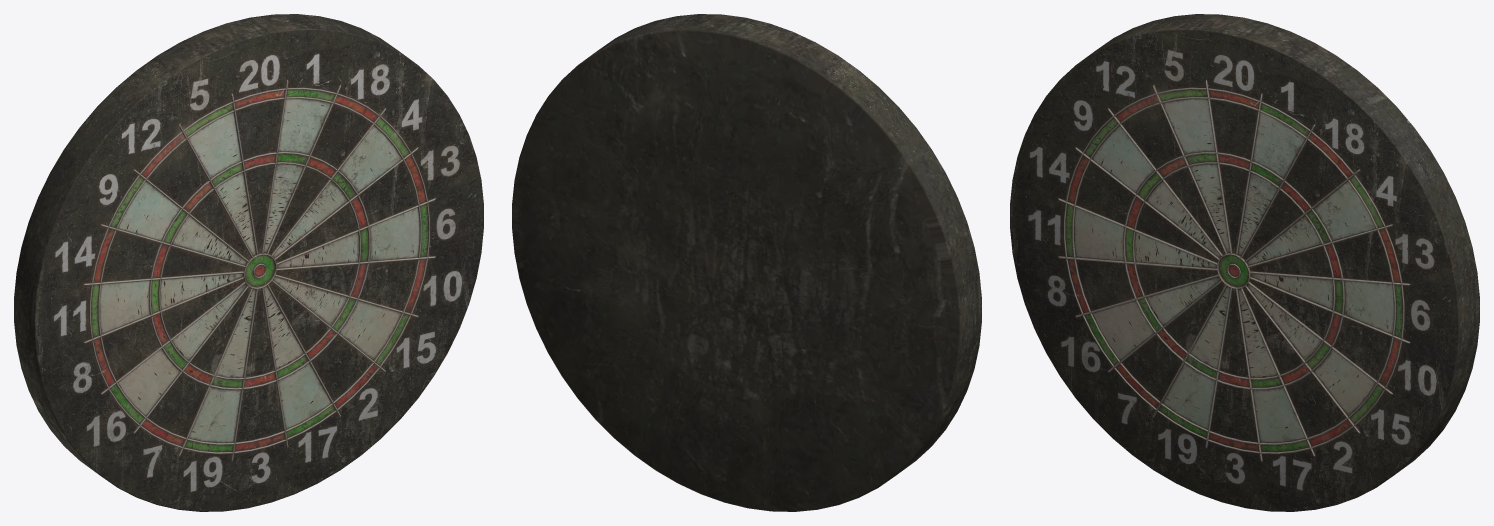
The model's file is ph-dartboard.glb.
The picture shows the model from 3 angles, left to right: view 1: azimuth 30°, elevation 25°; view 2: azimuth 150°, elevation 25°; view 3: azimuth 330°, elevation 25°; orthographic projection.
Parts seen in each view (by area): view 1: dartboard; view 2: dartboard; view 3: dartboard.
Part boxes in pixels (<box>): dartboard: <box>14,14,483,511</box>; dartboard: <box>512,14,981,511</box>; dartboard: <box>1010,14,1479,511</box>.
Size of the model in its own units: 0.4507 by 0.4507 by 0.0398.
1 material, 1 textured.
